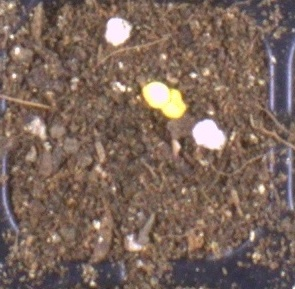chilli seed: (161, 88, 186, 119), (142, 81, 170, 108)
